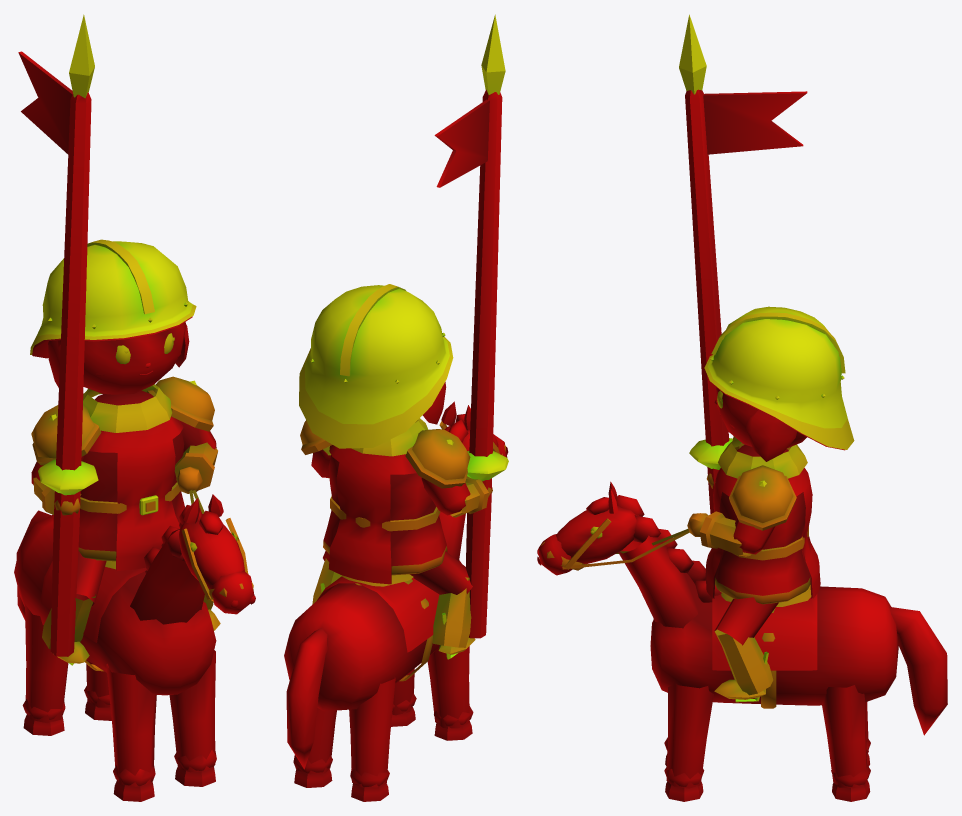
Rendered from Horseman.glb.
3 views of the same model, side by side, from view 1: azimuth 30°, elevation 25°; view 2: azimuth 150°, elevation 25°; view 3: azimuth 270°, elevation 25° (orthographic). The views are drawn at different scales.
Visible parts, largest first — view 1: Horseman; view 2: Horseman; view 3: Horseman.
Boxes of the visible parts, x1,y1,x2,y2 form: Horseman: [14, 14, 255, 801]; Horseman: [284, 14, 508, 801]; Horseman: [537, 14, 947, 801].
Size of the model in its own units: 0.534 by 2.07 by 1.06.
